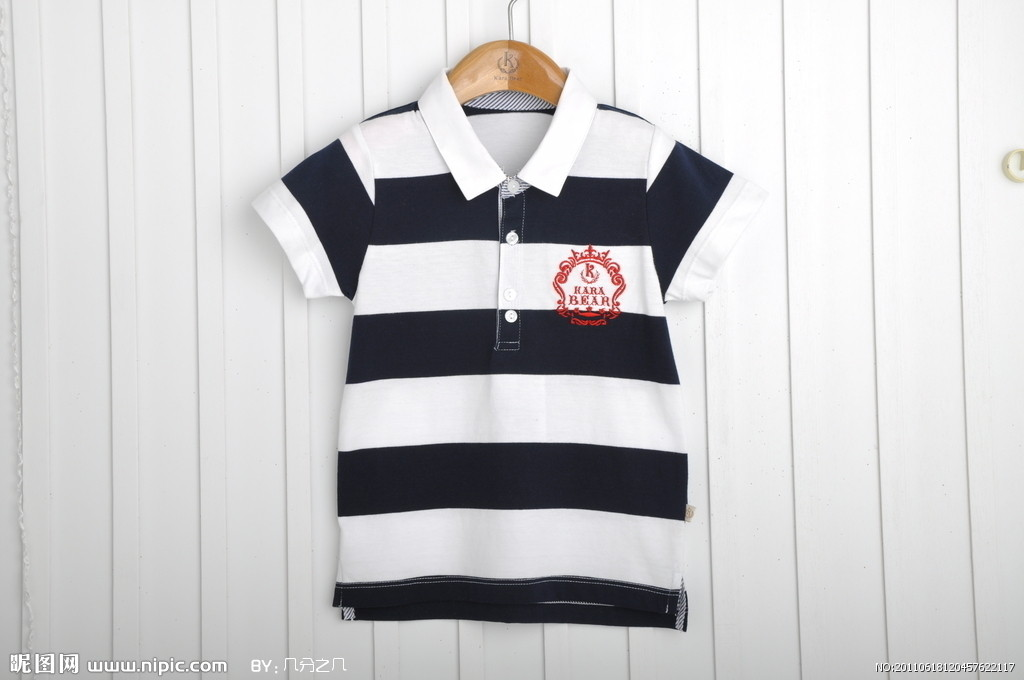flexible: (249, 57, 761, 636)
